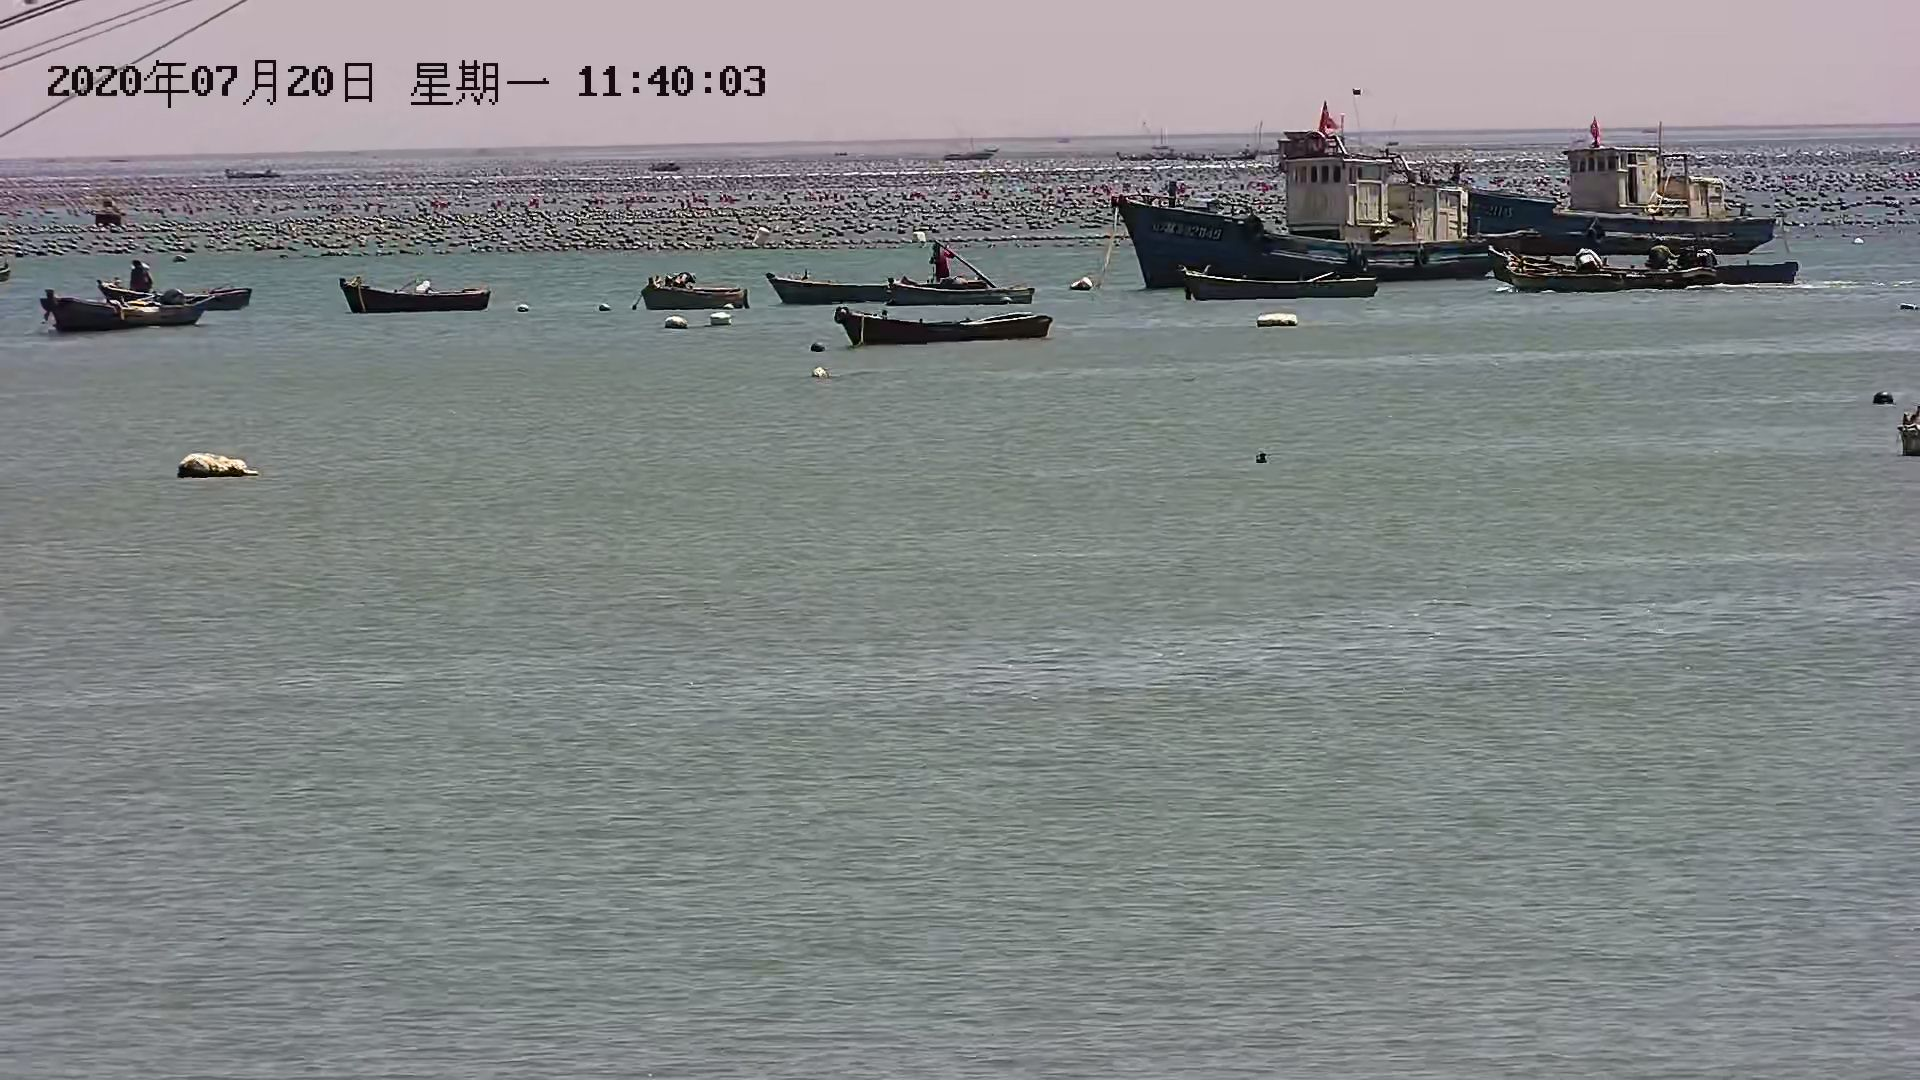boat: (1469, 128, 1795, 251), (1499, 243, 1808, 295), (829, 306, 1062, 342), (40, 284, 206, 331), (1174, 268, 1381, 305), (338, 273, 496, 320), (767, 264, 992, 294), (891, 269, 1043, 305), (107, 272, 255, 306), (628, 272, 760, 309)
rubbish: (174, 447, 258, 479), (1255, 305, 1304, 331)
